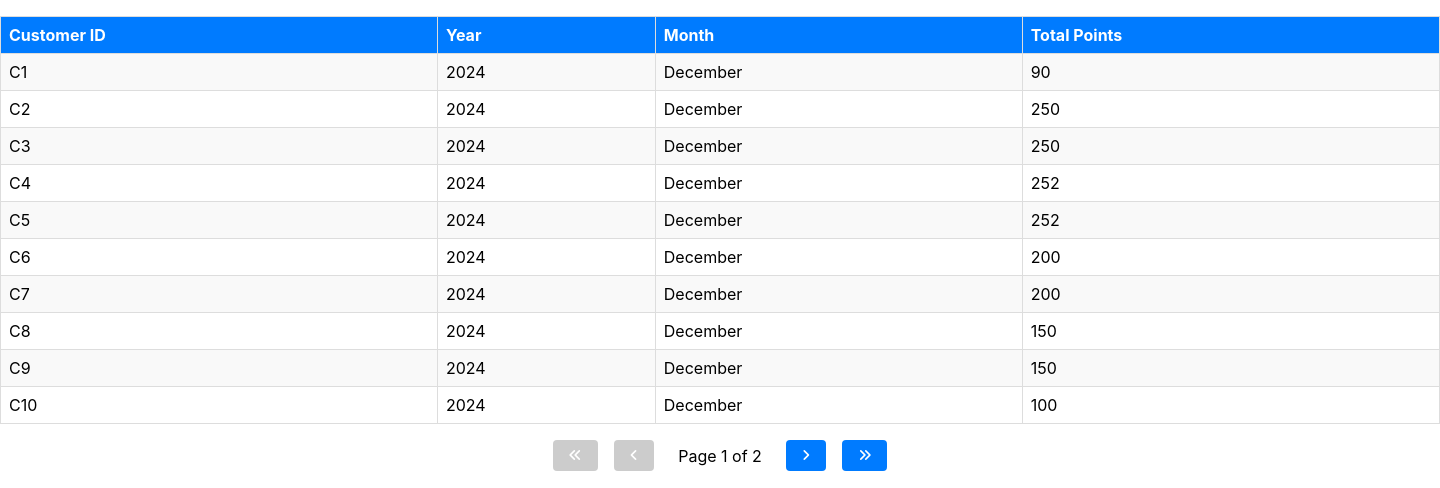
Scenario: RewardsTable Pagination › Last button should go to the last page
The width and height of the screenshot is (1440, 488).
Expected: the text "Page 1 of 2" is shown, [678,446,762,466]
What coordinates should you click on to do the following:
click the button named "Last"
I would click on:
 (865, 456)
Its box is [842,440,888,471].
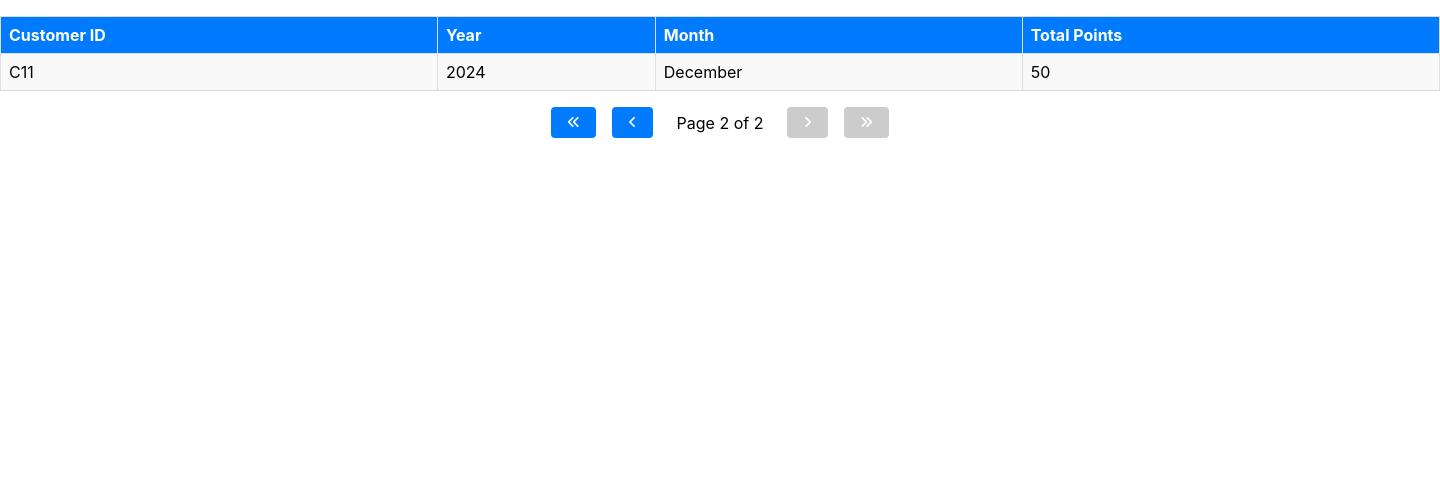
Expected: the text "Page 2 of 2" is shown, [676,112,763,132]
